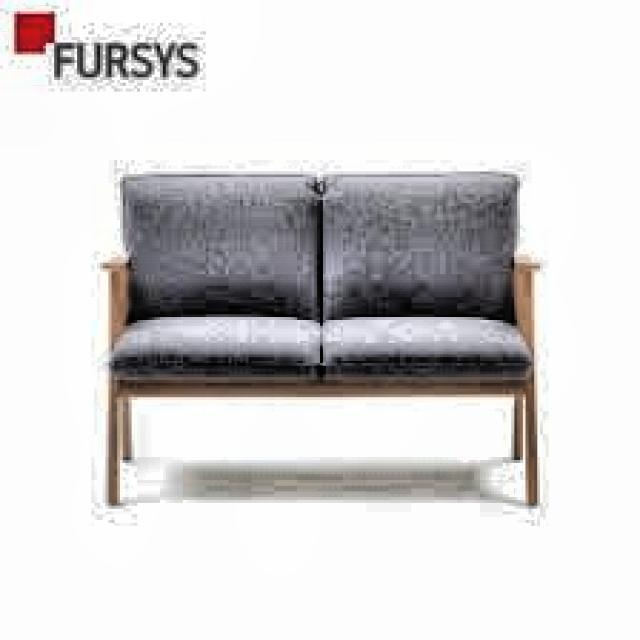sofa: (97, 171, 549, 520)
